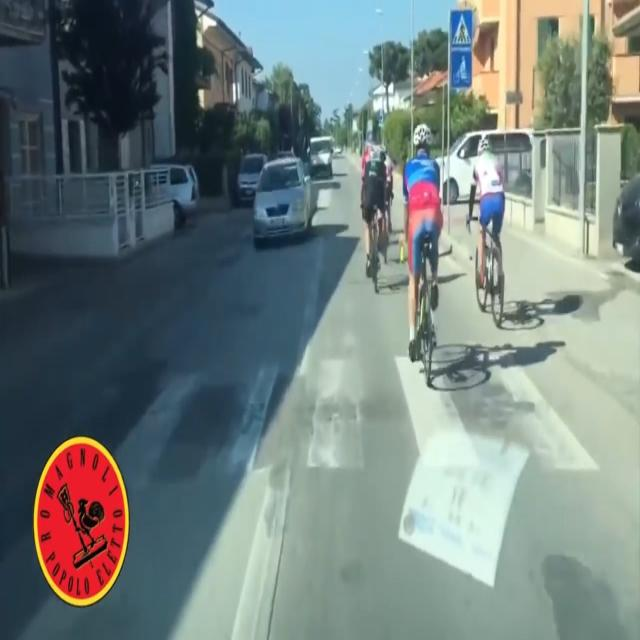Pedestrian crosswalk: (126, 362, 600, 474), (448, 7, 474, 48)
